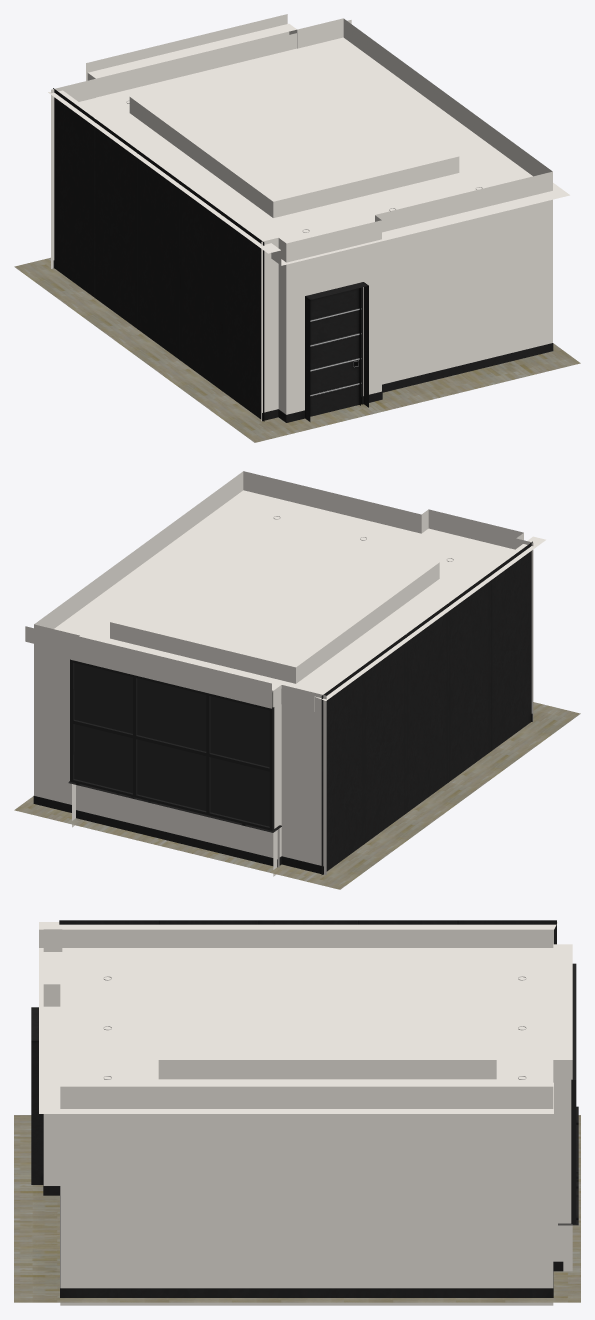
Rendered from Room_base.fbx.
The picture shows the model from 3 angles, top to bottom: view 1: azimuth 30°, elevation 25°; view 2: azimuth 150°, elevation 25°; view 3: azimuth 270°, elevation 25°; orthographic projection. The views are drawn at different scales.
Visible parts, largest first — view 1: Plane.002, Plane.001, Cube, Plane; view 2: Plane.002, Cube, Plane.001, Plane.008, Plane, Plane.007; view 3: Plane.001, Plane.002, Plane, Cube, Plane.007.
Part boxes in pixels (box(x1,y1,x2,y2)): Plane.002: box(48, 20, 569, 265); Plane.001: box(51, 14, 552, 421); Cube: box(53, 88, 553, 422); Plane: box(14, 257, 580, 442); Plane.002: box(25, 490, 545, 711); Cube: box(33, 541, 532, 874); Plane.001: box(34, 471, 533, 876); Plane.008: box(74, 663, 272, 826); Plane: box(14, 702, 580, 889); Plane.007: box(70, 659, 274, 830); Plane.001: box(43, 929, 578, 1305); Plane.002: box(39, 922, 557, 1113); Plane: box(14, 1115, 580, 1302); Cube: box(31, 920, 563, 1297); Plane.007: box(571, 963, 576, 1223).
Size of the model in its own units: 770 by 442 by 984.
